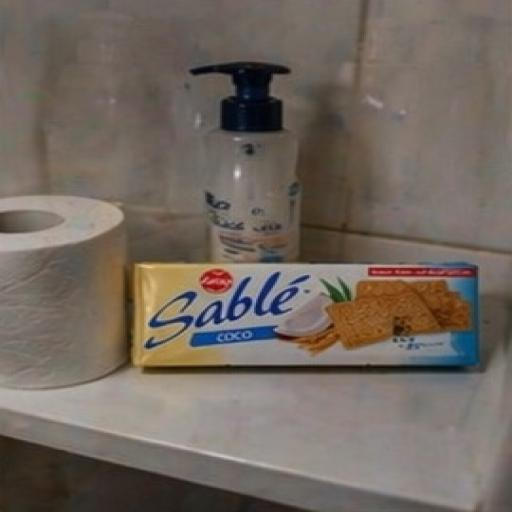sabl: (103, 206, 512, 401)
